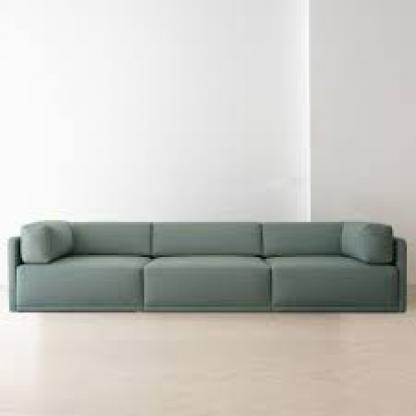sofa: (6, 220, 408, 312)
